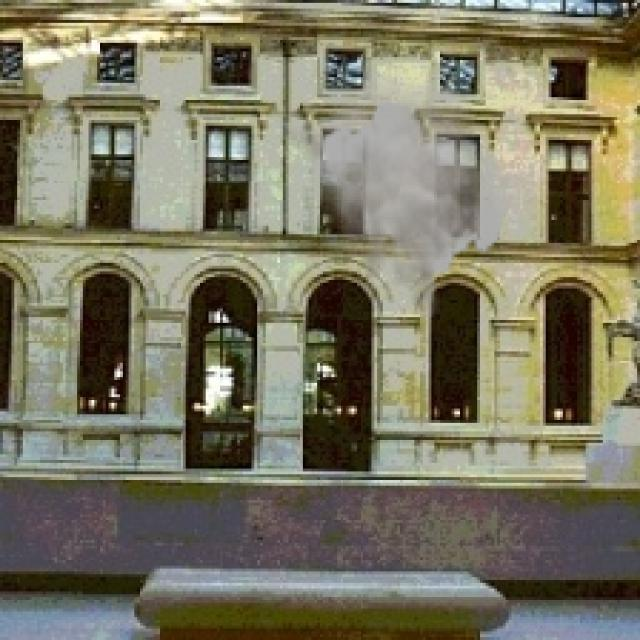Smoke: (282, 66, 514, 326)
